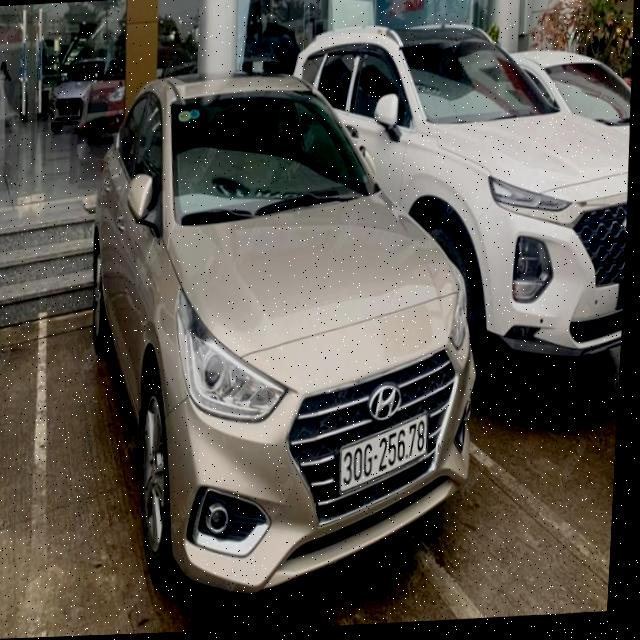car: (66, 51, 506, 607), (323, 1, 639, 395)
plate: (335, 413, 432, 494)
